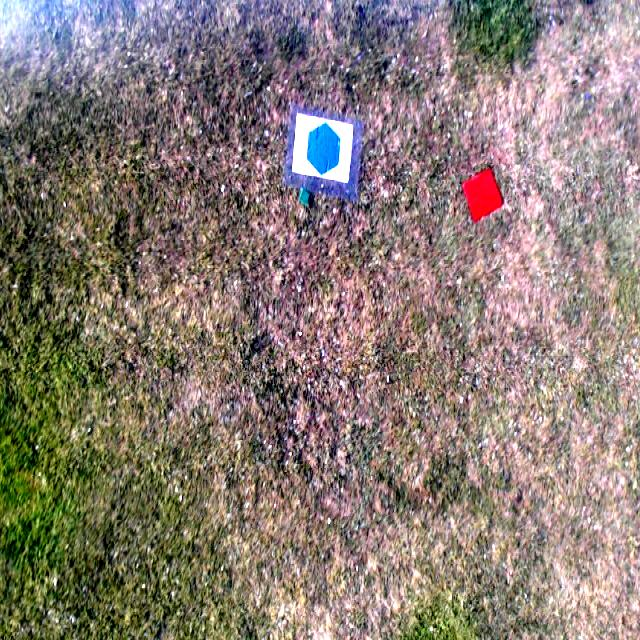blue_hexagon: (306, 122, 341, 178)
red_square: (464, 166, 503, 222)
